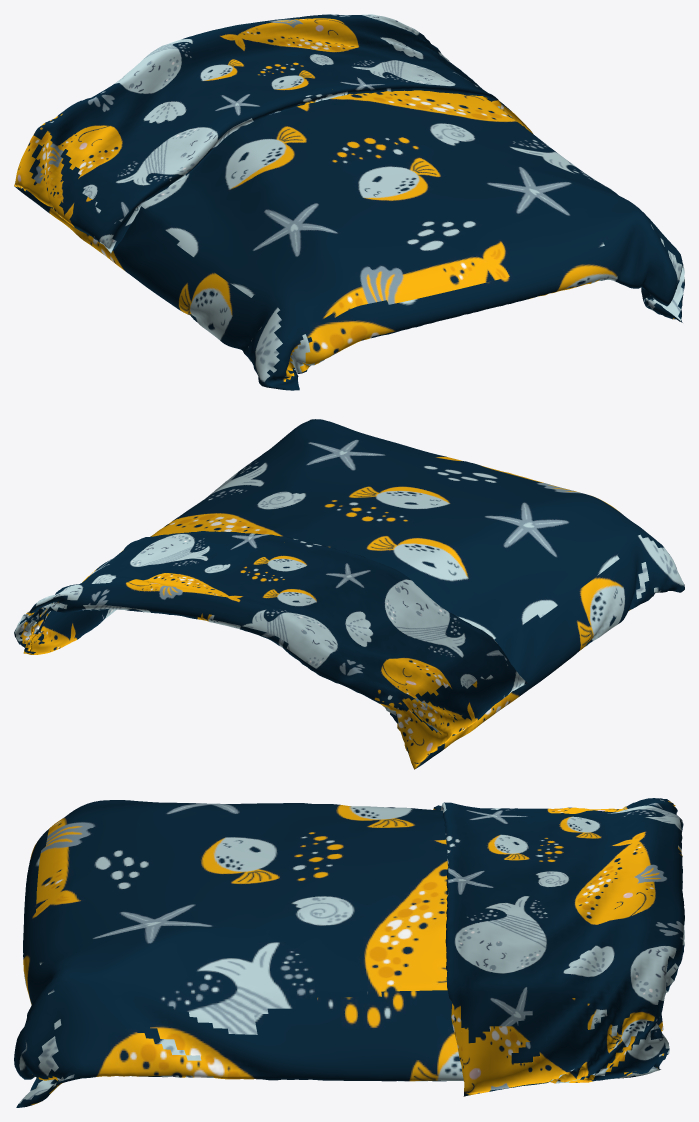
The model's file is frazada.fbx.
3 views of the same model, one above another, from view 1: azimuth 30°, elevation 25°; view 2: azimuth 150°, elevation 25°; view 3: azimuth 270°, elevation 25° (orthographic). The views are drawn at different scales.
Parts seen in each view (by area): view 1: frazada; view 2: frazada; view 3: frazada.
Boxes of the visible parts, left/top/right/bottom form: frazada: left=14, top=14, right=684, bottom=390; frazada: left=14, top=419, right=684, bottom=769; frazada: left=14, top=798, right=684, bottom=1107.
Bounding box in the file's own units: 434 × 130 × 480.
1 material, 1 textured.
